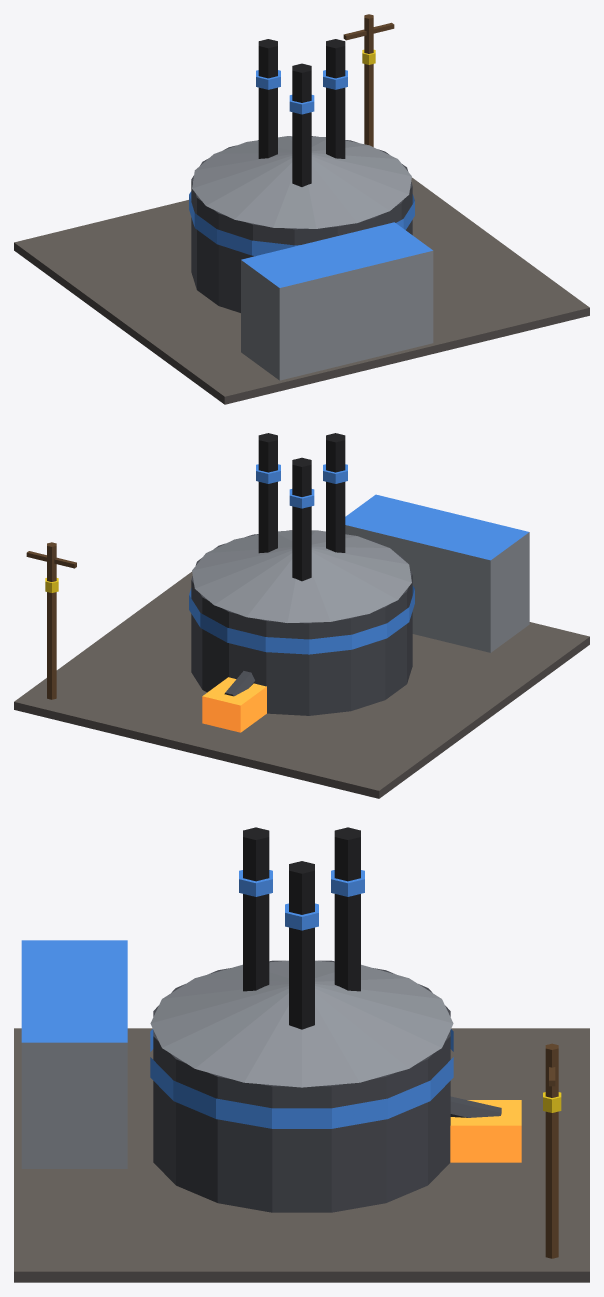
File: electric_furnace.glb
3 renders of one model, top to bottom at view 1: azimuth 30°, elevation 25°; view 2: azimuth 150°, elevation 25°; view 3: azimuth 270°, elevation 25°, orthographic. The views are drawn at different scales.
Visible parts, largest first — view 1: electric_furnace; view 2: electric_furnace; view 3: electric_furnace.
Part boxes in pixels (x1,y1,x2,y2): electric_furnace: (14,14,589,404); electric_furnace: (14,433,589,798); electric_furnace: (14,827,589,1282).
Bounding box in the file's own units: 3.8 × 2.3 × 3.8.
